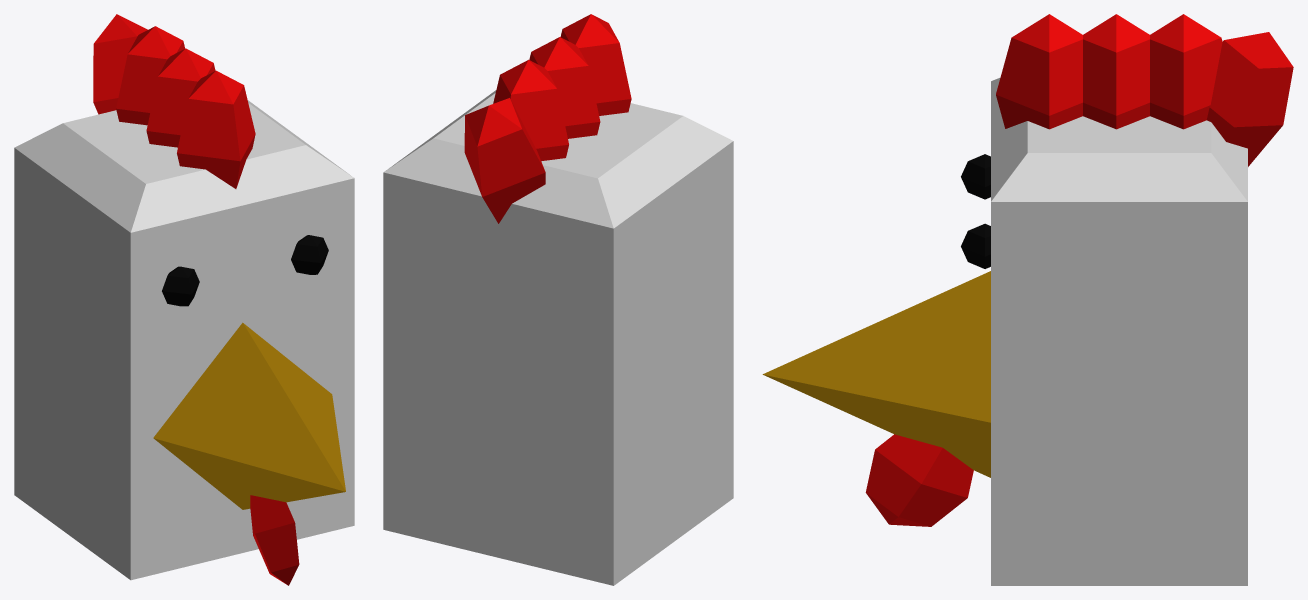
File: Gallina_cabeza.fbx
3 renders of one model, left to right at view 1: azimuth 30°, elevation 25°; view 2: azimuth 150°, elevation 25°; view 3: azimuth 270°, elevation 25°, orthographic. The views are drawn at different scales.
Visible parts, largest first — view 1: Capocha, Pico_sup, pSphere2, Pico_inf, pSphere4, pSphere3, Papada, pSphere5, Ojos; view 2: Capocha, pSphere5, pSphere4, pSphere3, pSphere2; view 3: Capocha, Pico_sup, pSphere2, pSphere5, Papada, pSphere3, pSphere4, Pico_inf, Ojos.
Part boxes in pixels (box(x1,y1,x2,y2)): Capocha: box(14, 100, 354, 580); Pico_sup: box(153, 322, 345, 491); pSphere2: box(177, 70, 255, 188); Pico_inf: box(154, 438, 345, 509); pSphere4: box(116, 26, 184, 125); pSphere3: box(146, 48, 215, 147); Papada: box(250, 495, 299, 585); pSphere5: box(93, 14, 147, 114); Ojos: box(162, 235, 328, 306); Capocha: box(383, 90, 733, 585); pSphere5: box(464, 98, 545, 223); pSphere4: box(493, 59, 568, 161); pSphere3: box(529, 37, 600, 138); pSphere2: box(560, 14, 631, 115); Capocha: box(991, 78, 1247, 585); Pico_sup: box(762, 271, 990, 422); pSphere2: box(996, 14, 1082, 129); pSphere5: box(1206, 32, 1293, 166); Papada: box(865, 434, 973, 526); pSphere3: box(1083, 14, 1149, 129); pSphere4: box(1150, 14, 1222, 129); Pico_inf: box(763, 374, 990, 477); Ojos: box(961, 154, 990, 268).
Bounding box in the file's own units: 2.4 × 4.75 × 4.46.
